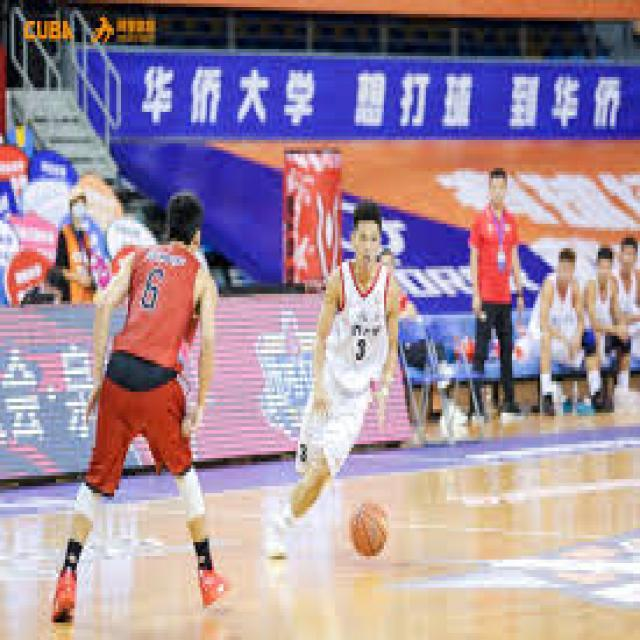rim: (351, 504, 391, 556)
